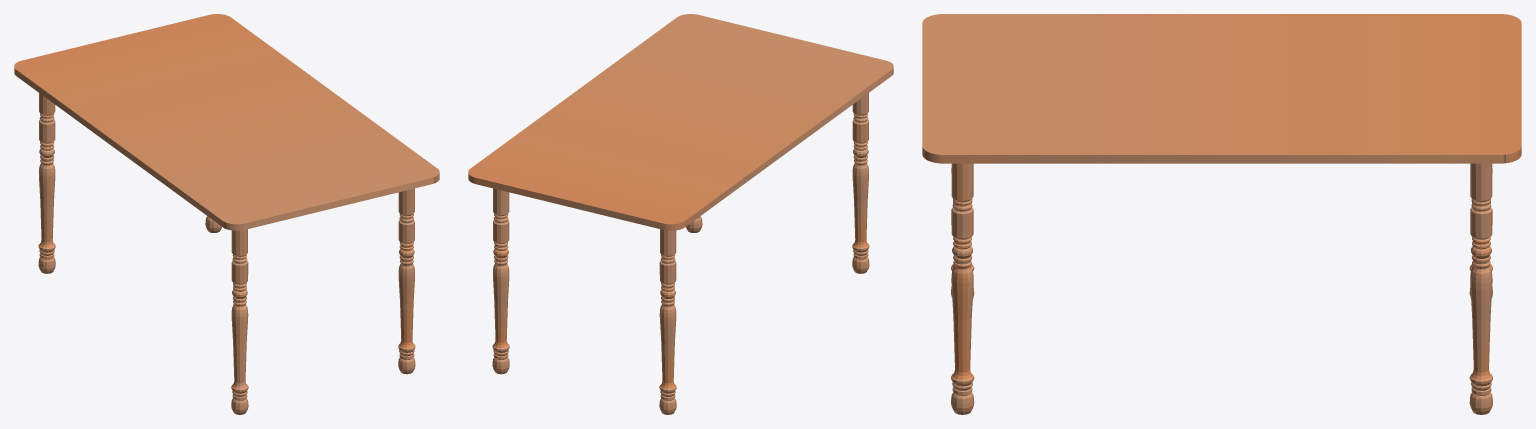
File: Table.glb
3 views of the same model, side by side, from view 1: azimuth 30°, elevation 25°; view 2: azimuth 150°, elevation 25°; view 3: azimuth 270°, elevation 25° (orthographic). The views are drawn at different scales.
Parts seen in each view (by area): view 1: Table; view 2: Table; view 3: Table.
Part boxes in pixels (left/top/right/bottom): Table: left=14, top=14, right=439, bottom=414; Table: left=468, top=14, right=893, bottom=414; Table: left=922, top=14, right=1521, bottom=414.
Size of the model in its own units: 5.14 by 4.65 by 9.24.
Materials: 1 (1 with a texture image).
